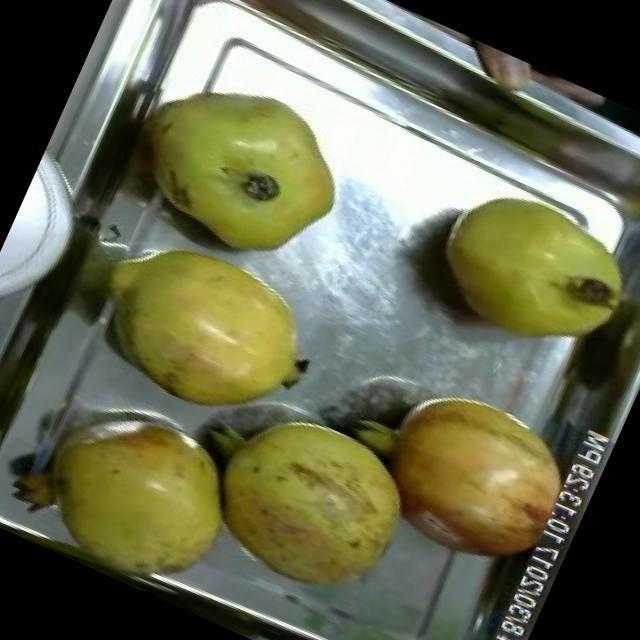fruit: (62, 206, 353, 456), (0, 369, 273, 618), (108, 46, 382, 291), (181, 380, 439, 624), (340, 358, 601, 594), (410, 157, 640, 379)
